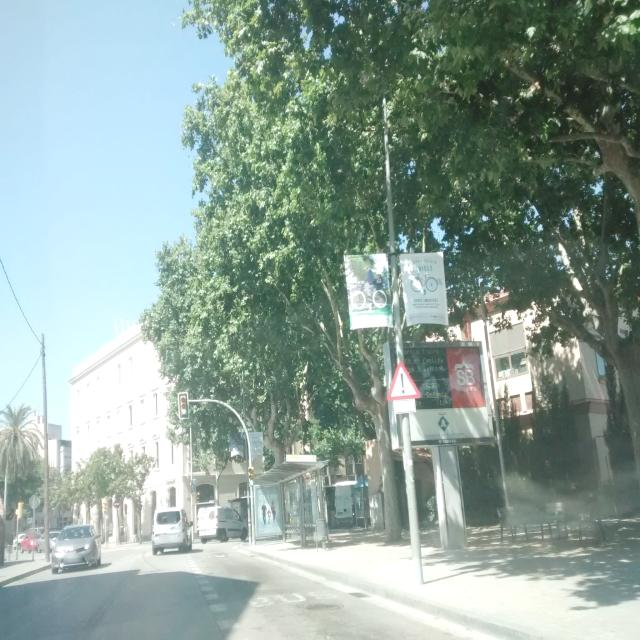car: (50, 524, 102, 574), (195, 504, 250, 544), (150, 507, 193, 556), (12, 529, 43, 552), (35, 530, 60, 552)
